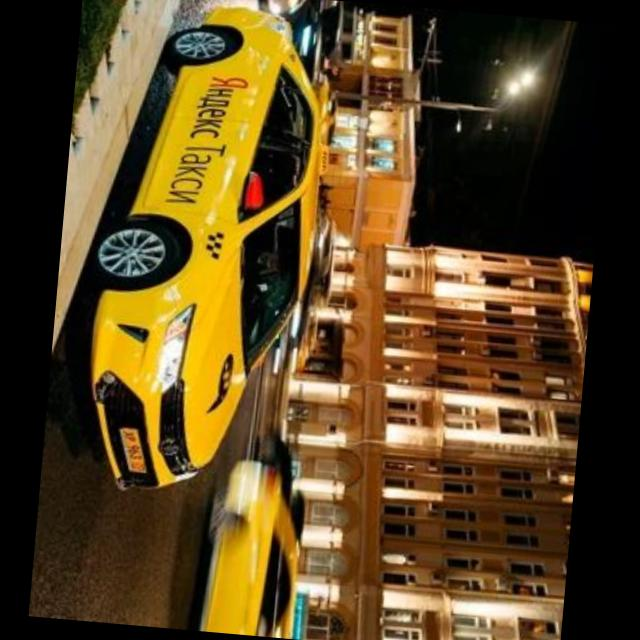taxi: (68, 1, 343, 506), (190, 455, 311, 640)
